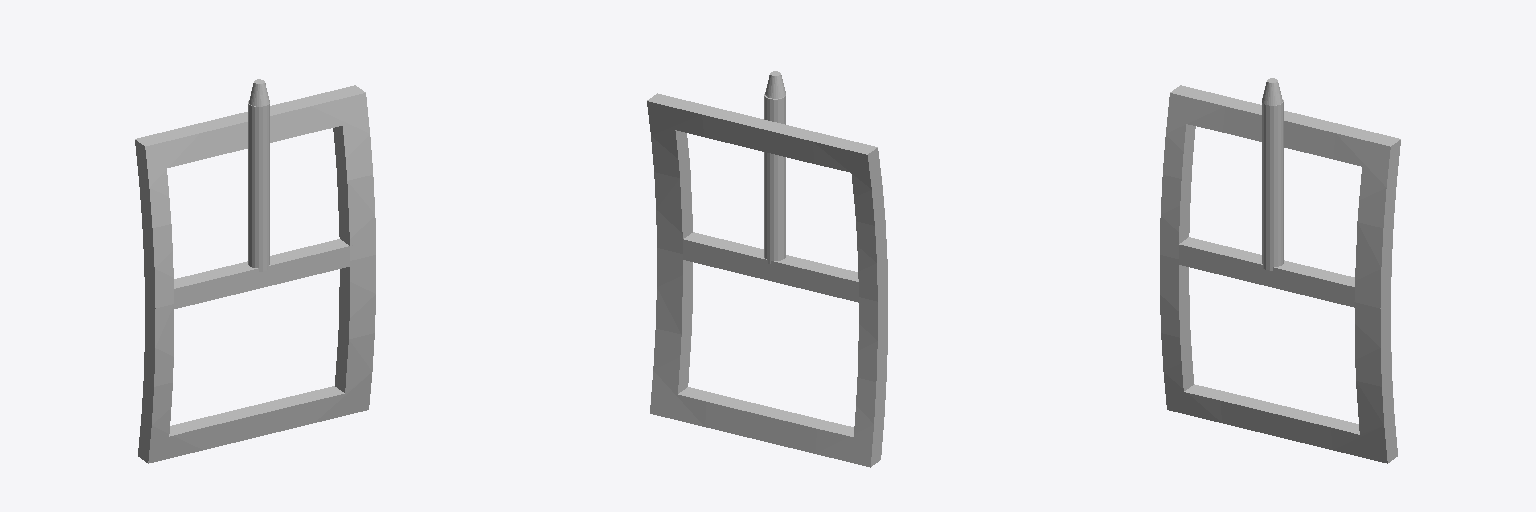
The model's file is Belt.obj.
3 renders of one model, left to right at view 1: azimuth 30°, elevation 25°; view 2: azimuth 150°, elevation 25°; view 3: azimuth 330°, elevation 25°, orthographic.
Parts seen in each view (by area): view 1: object_4, object_3, object_2; view 2: object_4, object_3, object_2; view 3: object_4, object_3, object_2.
Part boxes in pixels (x1,y1,x2,y2): object_4: (135,85,375,463); object_3: (174,239,352,308); object_2: (248,101,269,271); object_4: (647,93,887,467); object_3: (683,232,858,302); object_2: (764,94,785,263); object_4: (1160,85,1400,463); object_3: (1179,237,1354,307); object_2: (1262,99,1283,270).
Bounding box in the file's own units: 0.1318 × 0.2041 × 0.0224.